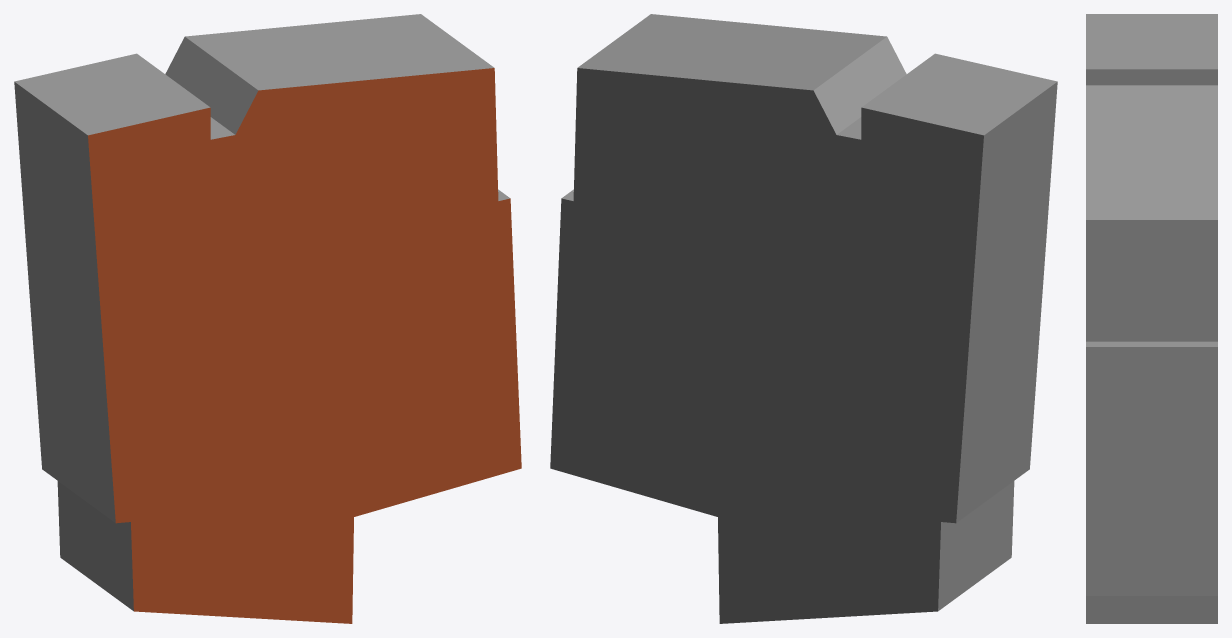
Rendered from construction_4193_assumed_A_Casa_h6m.obj.
3 renders of one model, left to right at view 1: azimuth 30°, elevation 25°; view 2: azimuth 150°, elevation 25°; view 3: azimuth 270°, elevation 25°, orthographic. The views are drawn at different scales.
Visible parts, largest first — view 1: construction_4193_assumed_A_Casa; view 2: construction_4193_assumed_A_Casa; view 3: construction_4193_assumed_A_Casa.
Boxes of the visible parts, <box> form: construction_4193_assumed_A_Casa: <box>14,14,521,623</box>; construction_4193_assumed_A_Casa: <box>550,14,1057,623</box>; construction_4193_assumed_A_Casa: <box>1086,14,1217,623</box>.
Bounding box in the file's own units: 20.39 × 24.99 × 6.
